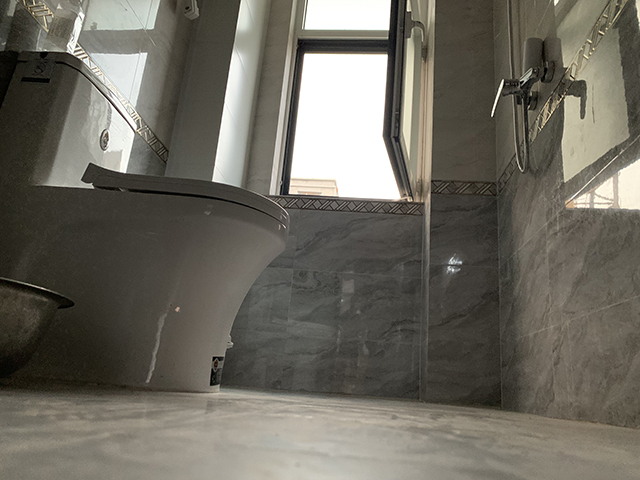closestool: (1, 49, 292, 394)
